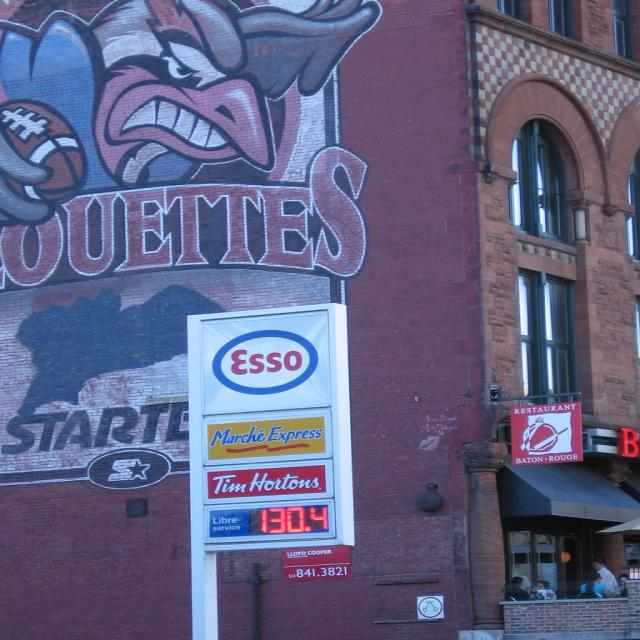esso: (209, 328, 325, 399)
